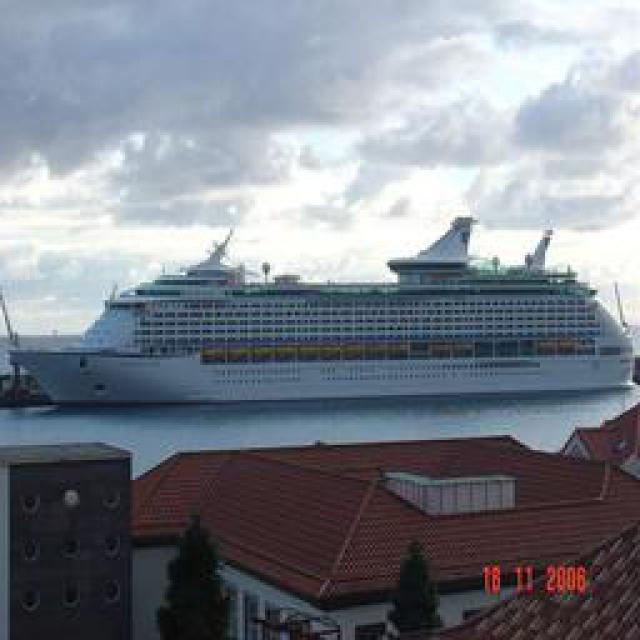Ship: (10, 217, 630, 410)
